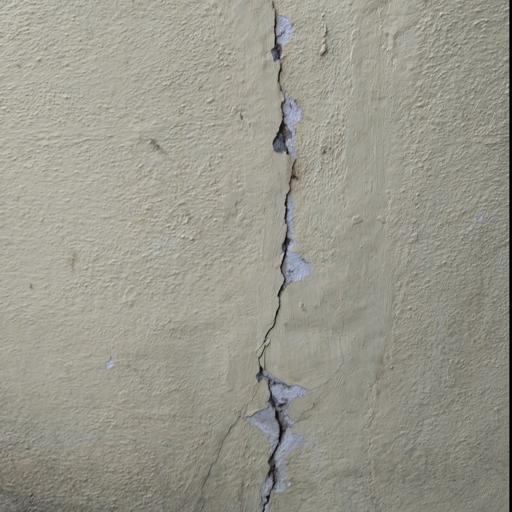major_crack: (205, 0, 325, 512)
